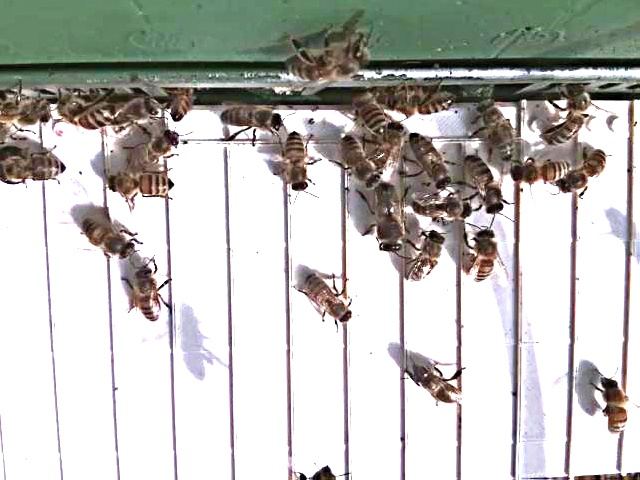Drone: (372, 181, 408, 256)
Worker: (302, 271, 358, 329), (545, 90, 596, 151), (466, 153, 508, 220), (78, 216, 139, 262), (408, 132, 454, 193), (410, 364, 470, 410), (558, 149, 612, 198), (105, 171, 180, 205), (336, 136, 383, 190), (406, 229, 449, 288), (219, 102, 286, 136), (2, 152, 70, 185), (465, 227, 502, 287), (282, 131, 315, 198), (598, 376, 632, 440), (132, 264, 166, 327), (351, 88, 391, 139), (407, 194, 471, 225), (510, 159, 573, 186)
